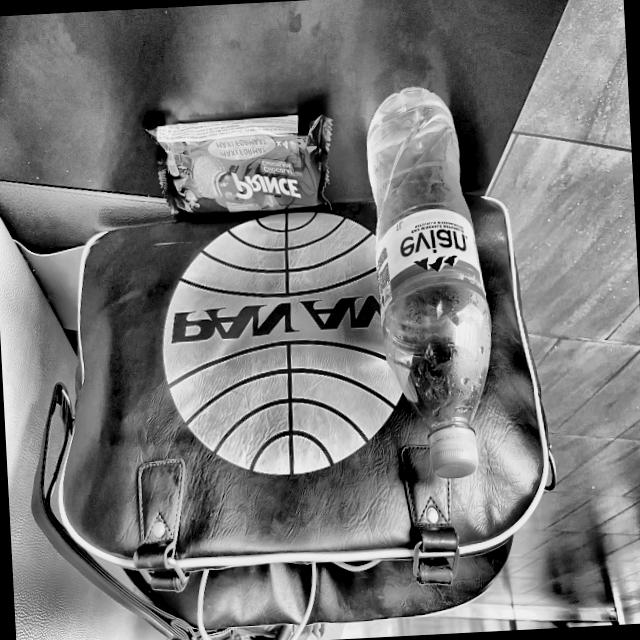waterbottle: (360, 78, 508, 491)
